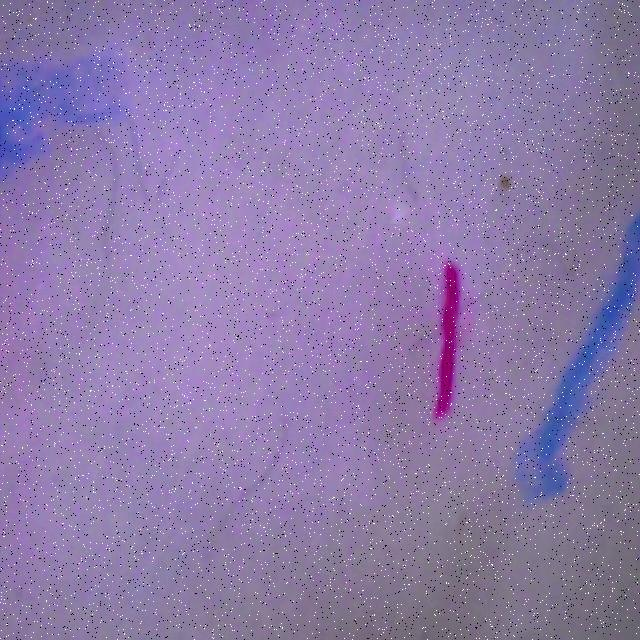fibers: (431, 262, 466, 419), (1, 0, 1, 1)
